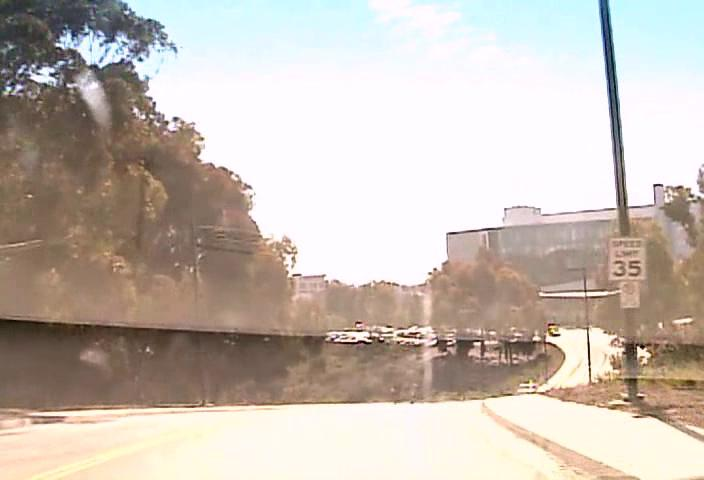speedLimit35: (608, 235, 646, 281)
